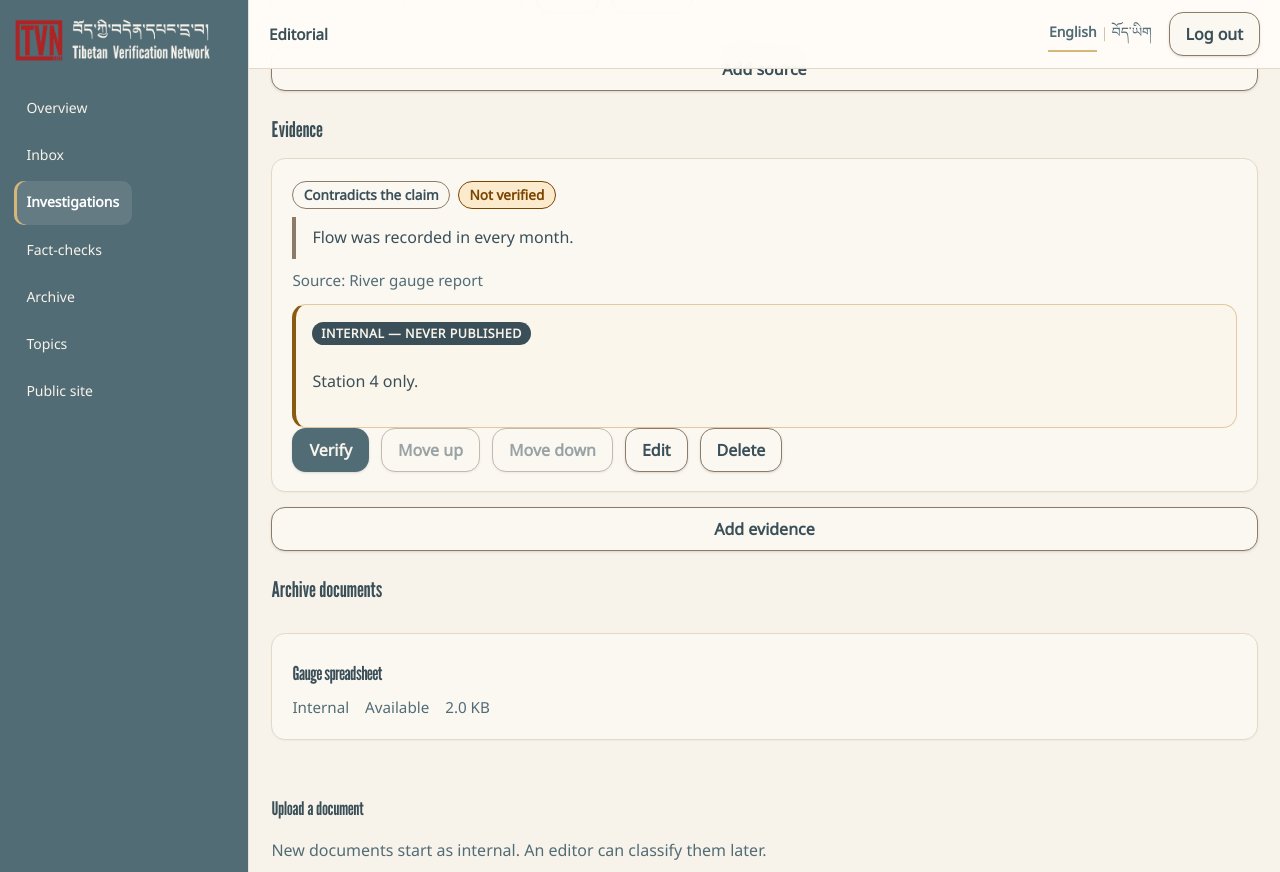
Scenario: investigation workspace › maps a 409 to a conflict message with a reload option
The width and height of the screenshot is (1280, 872).
(page scrolled)
Click the button with aria-label "Verify evidence 1" at (331, 450), box [292,428,369,472]
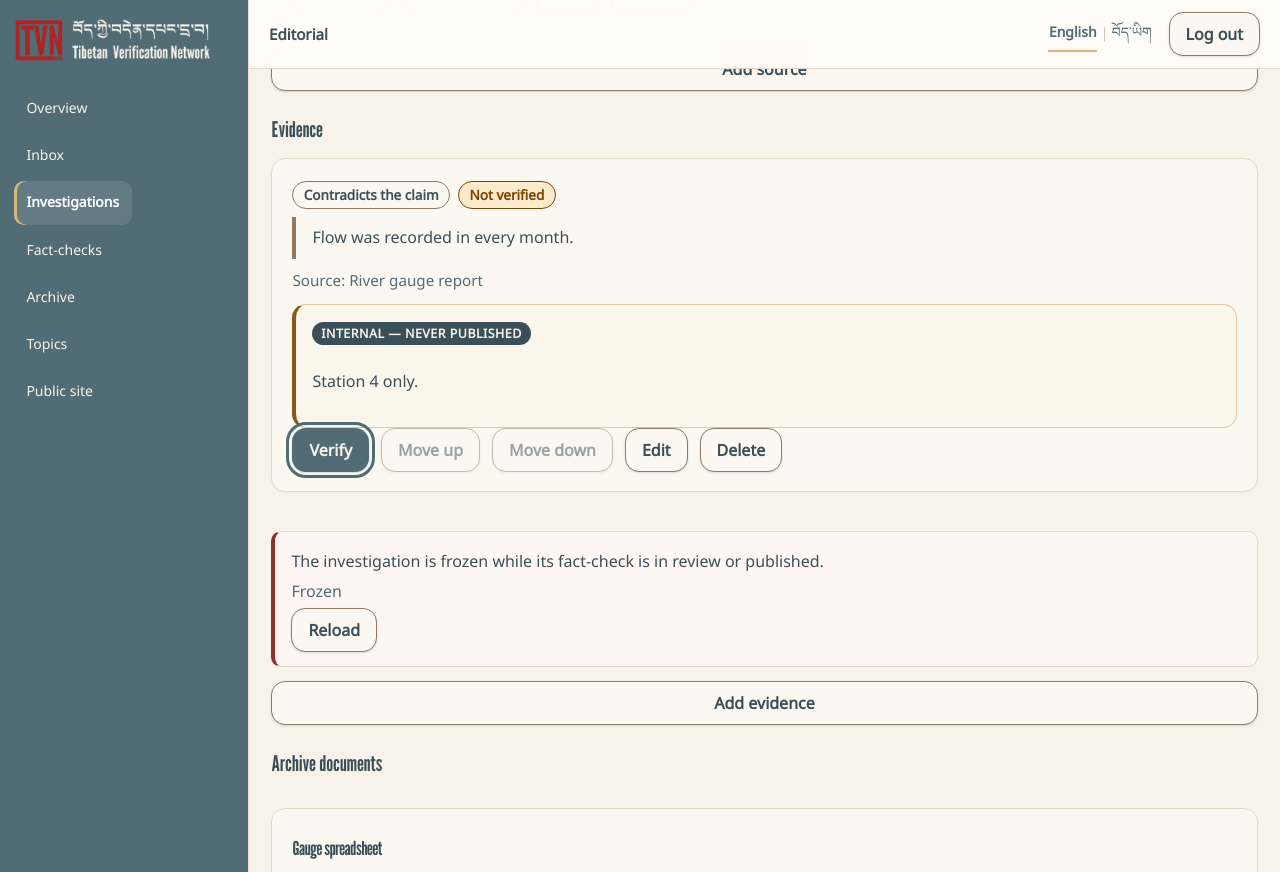
Check: the message shows "The investigation is frozen", box [291,550,824,572]
Check: the button "Reload" is shown, box [291,608,377,652]
